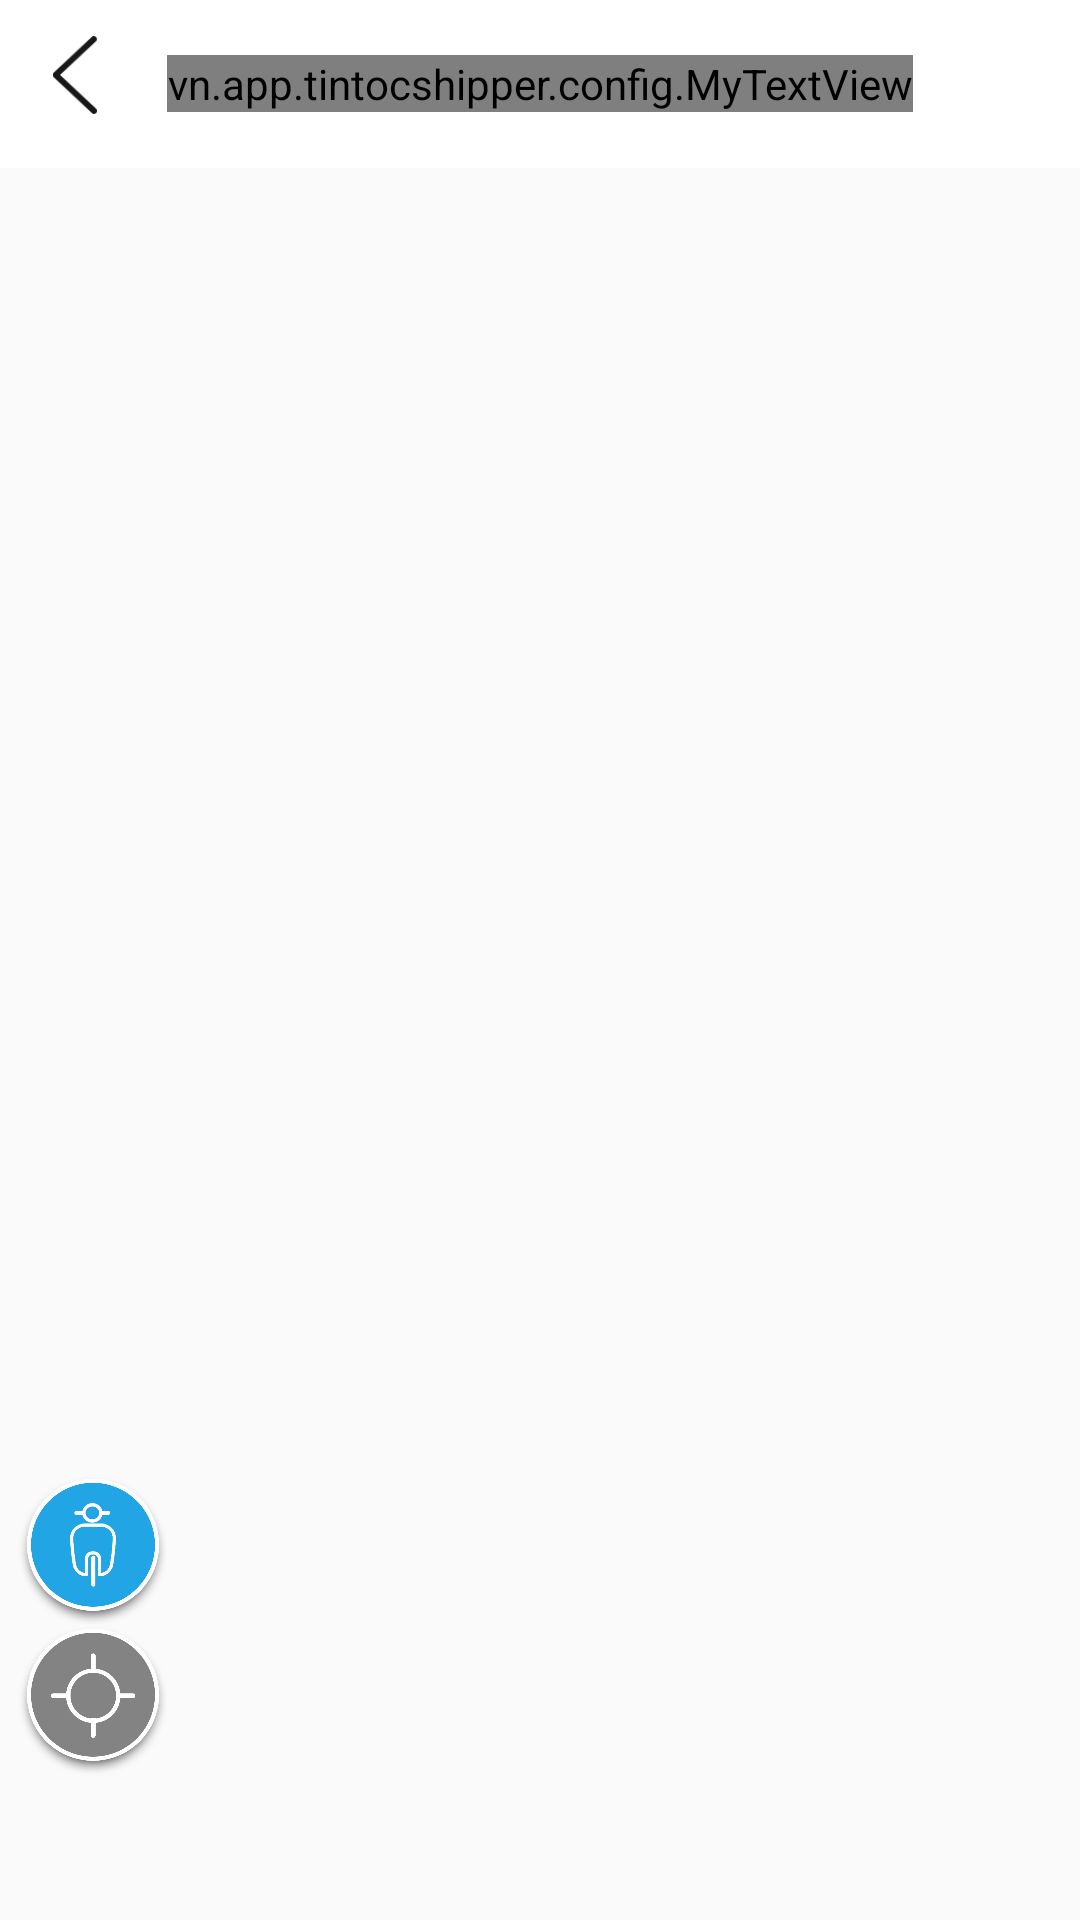

Where icons sit on this 1080×1920 app screen, as box=[x1, y1, x2, y2]:
back: box=[53, 36, 97, 114]
bike: box=[24, 1483, 162, 1620]
location: box=[24, 1633, 162, 1770]
